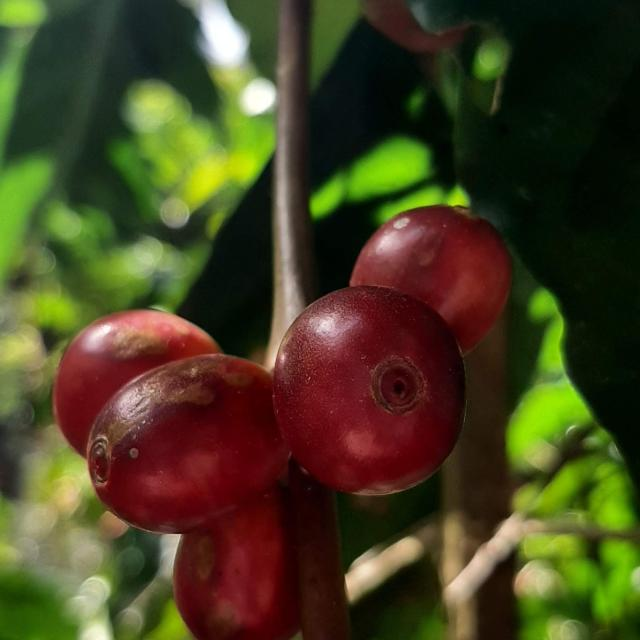Ripe: (273, 286, 466, 495), (86, 354, 289, 534), (52, 310, 220, 456), (350, 205, 512, 352), (173, 488, 299, 640)
